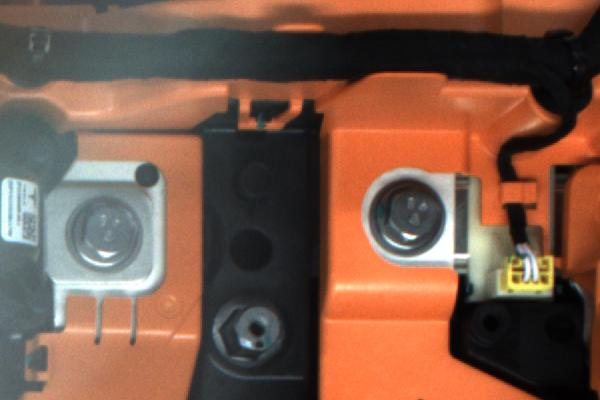nut_b: (362, 175, 453, 261), (65, 196, 151, 275)
